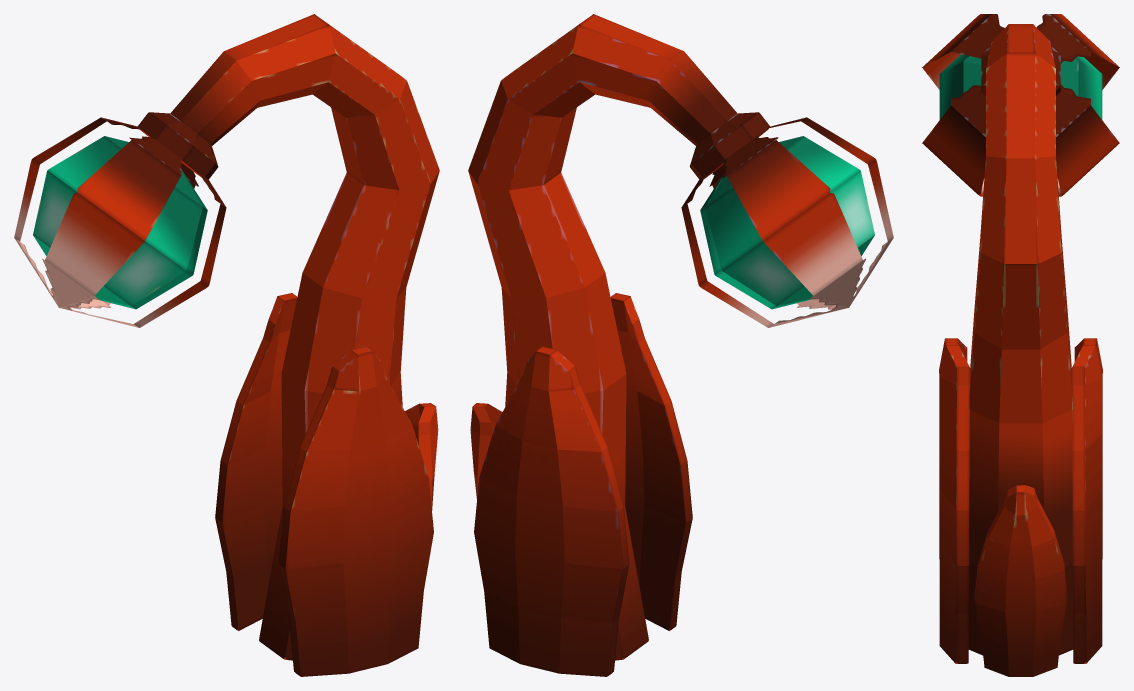
File: DrakeClawPlantMidStage.fbx
The picture shows the model from 3 angles, left to right: view 1: azimuth 30°, elevation 25°; view 2: azimuth 150°, elevation 25°; view 3: azimuth 270°, elevation 25°; orthographic projection. The views are drawn at different scales.
Visible parts, largest first — view 1: MidStageDC; view 2: MidStageDC; view 3: MidStageDC.
Part boxes in pixels (x1=…): MidStageDC: x1=14, y1=14, x2=439, y2=676; MidStageDC: x1=468, y1=14, x2=893, y2=676; MidStageDC: x1=922, y1=14, x2=1119, y2=676.
Size of the model in its own units: 47.43 by 69.54 by 21.25.
1 material, 1 textured.
